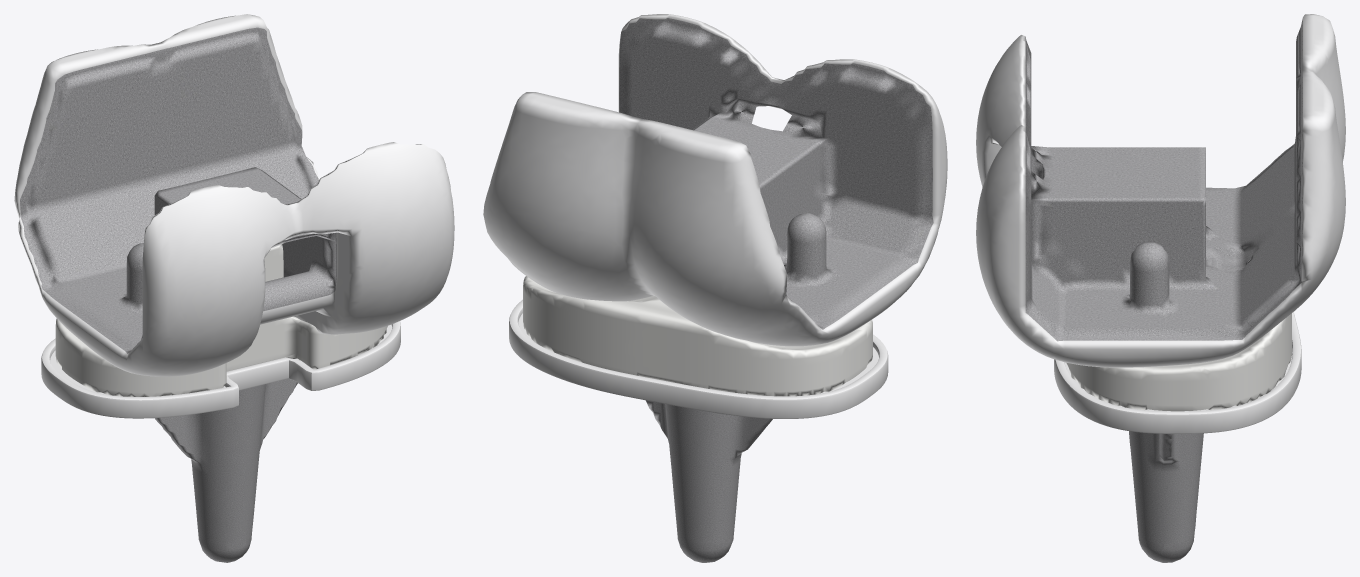
The model's file is tka_mirai_lod1.glb.
3 views of the same model, side by side, from view 1: azimuth 30°, elevation 25°; view 2: azimuth 150°, elevation 25°; view 3: azimuth 270°, elevation 25° (orthographic). The views are drawn at different scales.
Parts seen in each view (by area): view 1: femoral.001, tray.001, insert.001; view 2: femoral.001, insert.001, tray.001; view 3: femoral.001, tray.001, insert.001.
Boxes of the visible parts, x1,y1,x2,y2 form: femoral.001: (14,14,454,376); tray.001: (41,321,400,562); insert.001: (55,244,387,396); femoral.001: (483,14,947,346); insert.001: (523,276,872,396); tray.001: (509,299,888,562); femoral.001: (976,14,1345,367); tray.001: (1054,312,1301,562); insert.001: (1066,313,1291,411).
Size of the model in its own units: 0.07 by 0.097 by 0.0657.
Materials: 3 (1 with a texture image).
